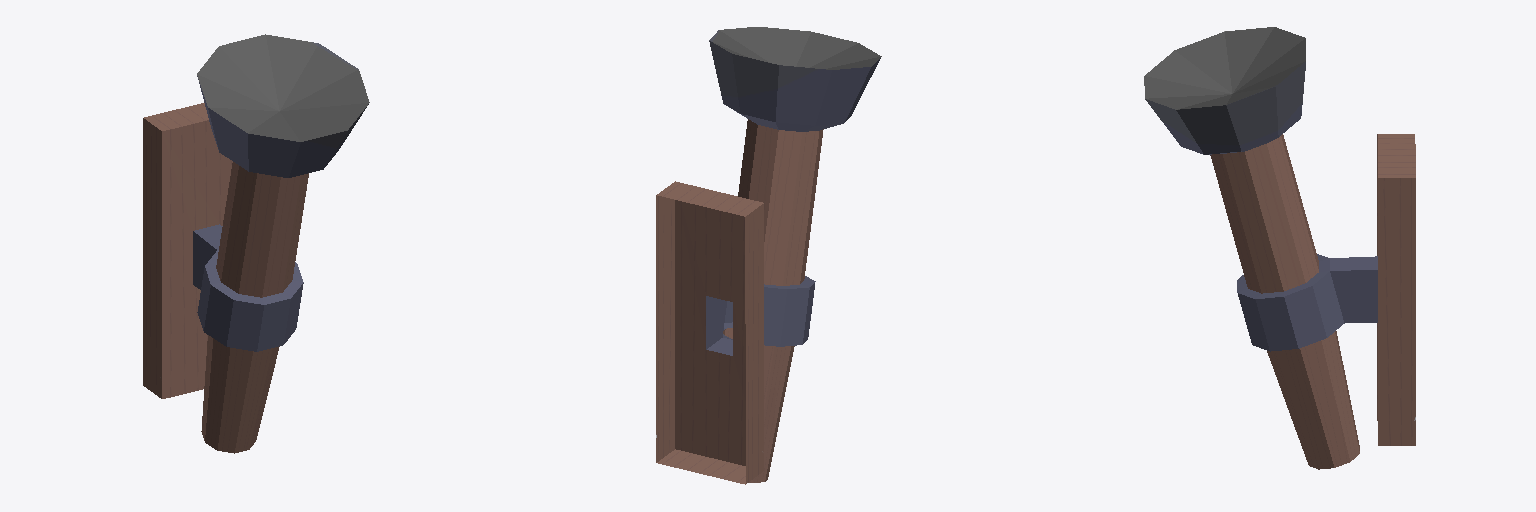
The picture shows the model from 3 angles: view 1: azimuth 30°, elevation 25°; view 2: azimuth 150°, elevation 25°; view 3: azimuth 270°, elevation 25°; orthographic projection.
Parts seen in each view (by area): view 1: torch_Torch; view 2: torch_Torch; view 3: torch_Torch.
Boxes of the visible parts, <box> form: torch_Torch: <box>143,34,369,453</box>; torch_Torch: <box>656,27,881,484</box>; torch_Torch: <box>1144,27,1415,469</box>.
Size of the model in its own units: 0.8681 by 2.25 by 1.34.
1 materials, 1 textured.